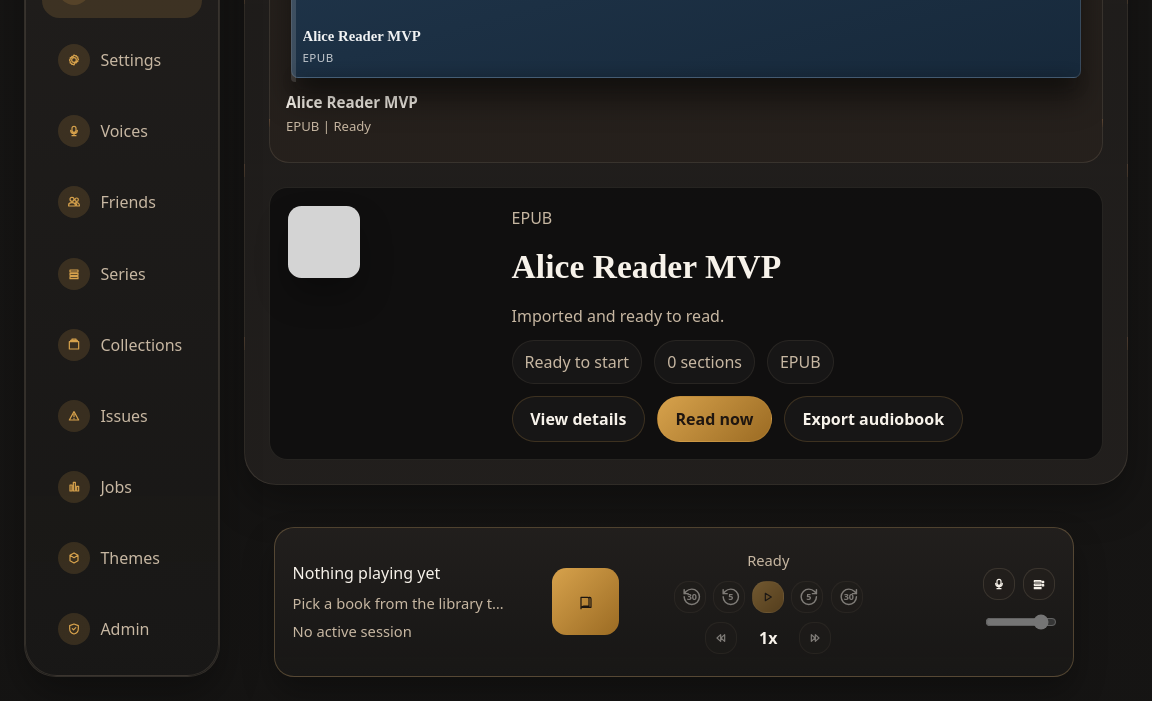
Test case: LibraryPage › lets Alice cancel the confirm-play modal without starting playback
(page scrolled)
Click the button "Read now". click: (714, 419)
box: x1=657 y1=396 x2=772 y2=442
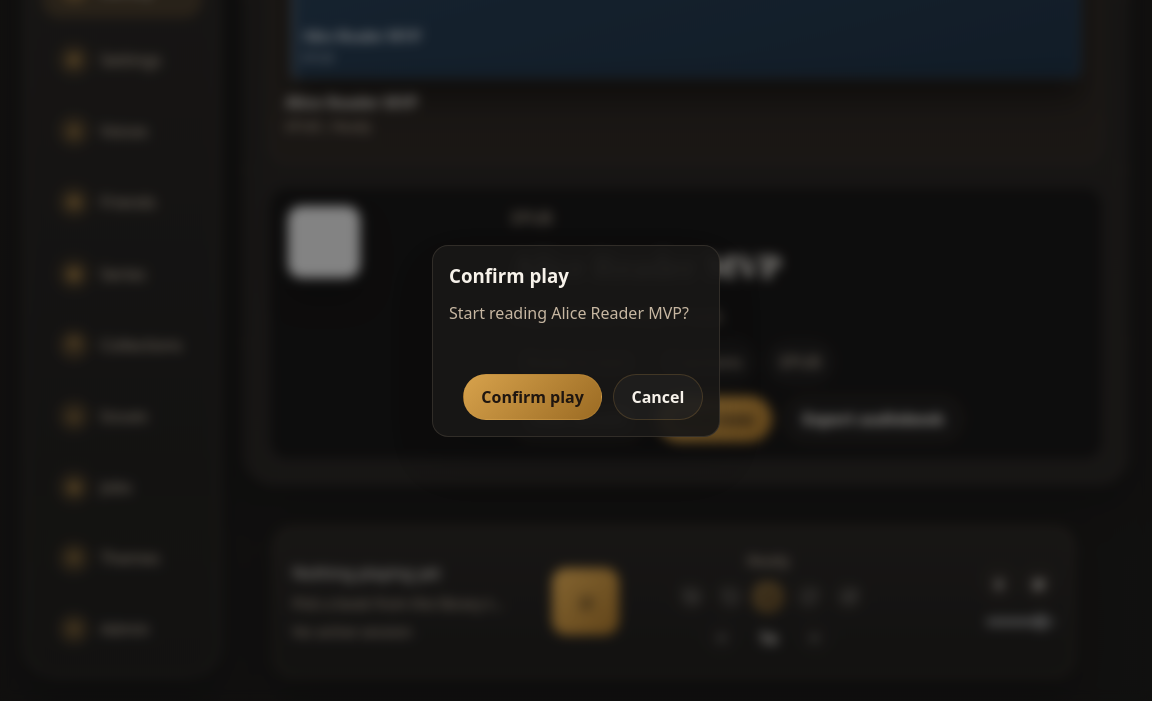
Expected: the dialog "Confirm play" is shown, x1=432 y1=245 x2=720 y2=437
Click the button "Cancel". click: (658, 397)
box: x1=613 y1=374 x2=703 y2=420
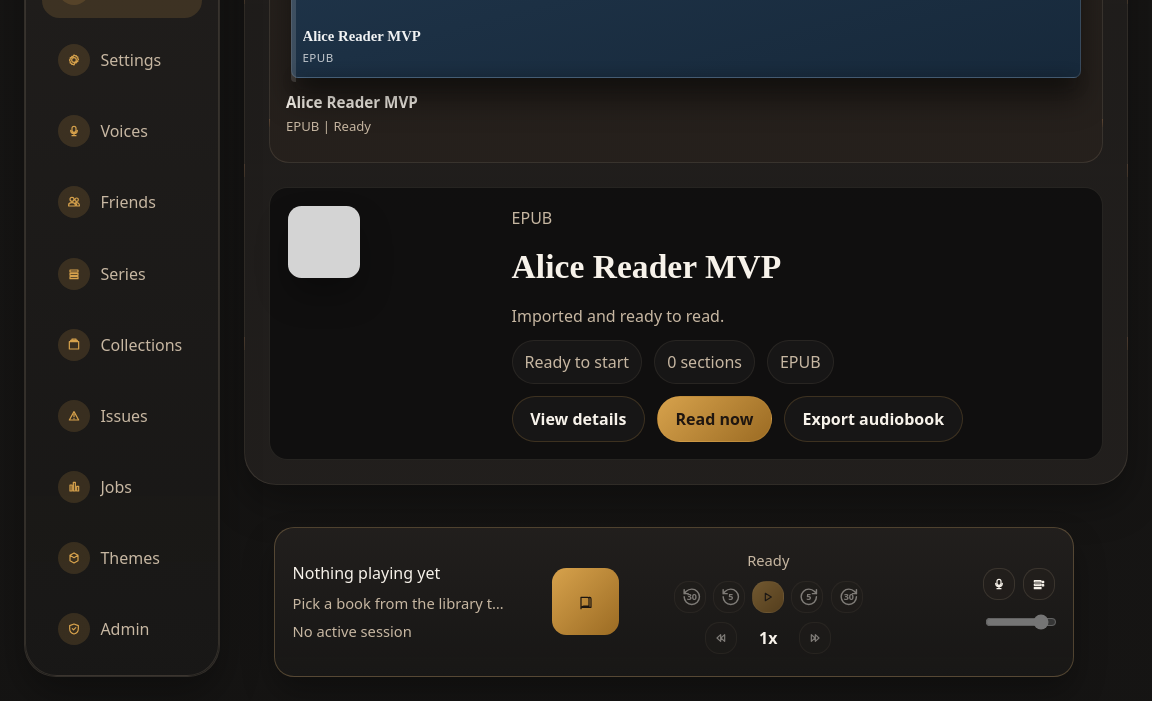
Expected: the heading "Confirm play" is gone
